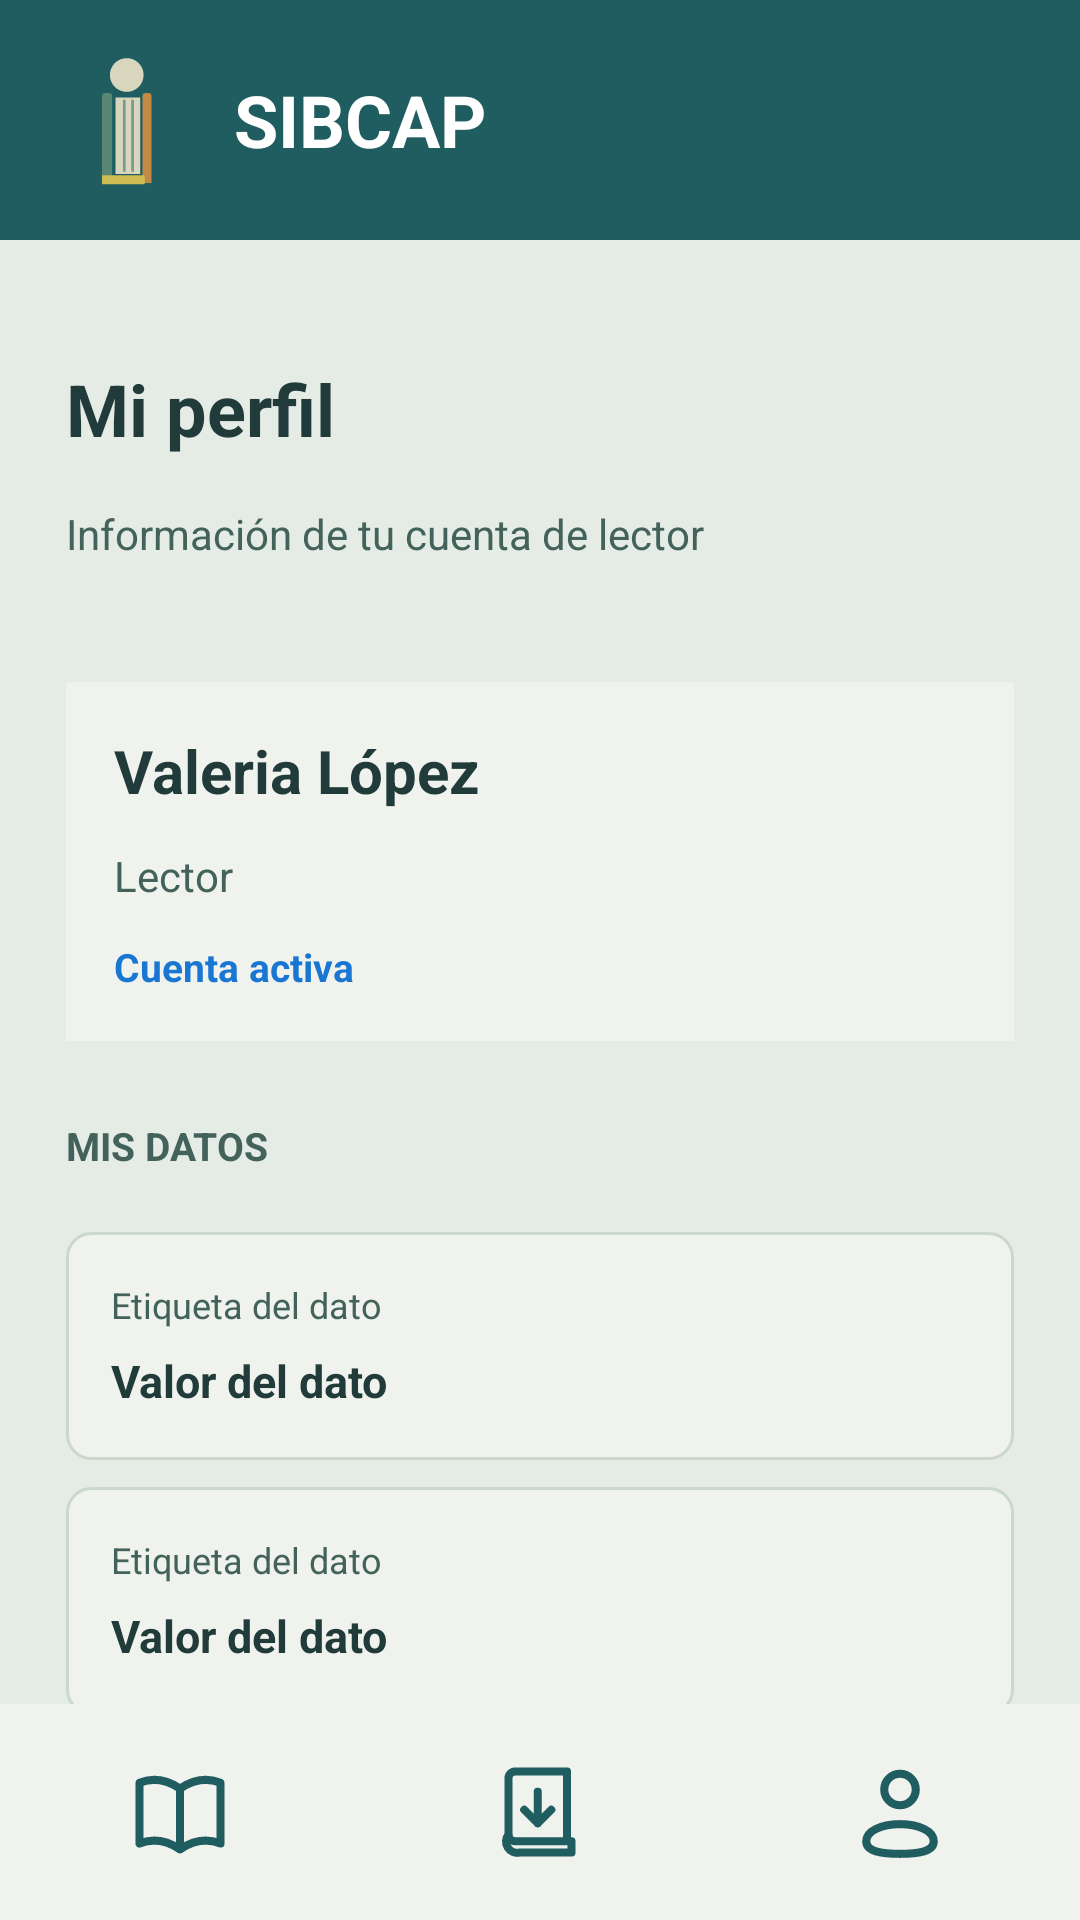

Screen size 1080w x 1920h. Icon name, then its box in pixels as [x1,y1,x2,y2]:
perfil: [862,1769,938,1858]
prestamos: [502,1767,576,1857]
